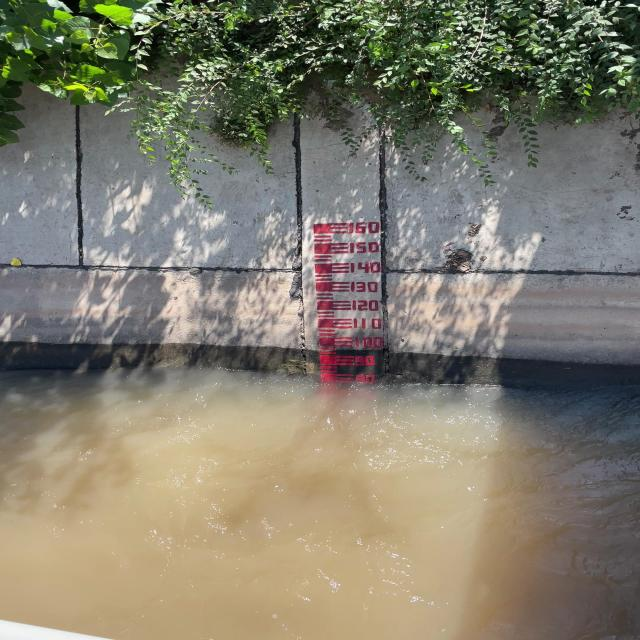ruler: (307, 217, 390, 381)
value: (346, 219, 386, 235), (346, 241, 384, 256), (349, 316, 386, 331), (347, 262, 384, 276), (352, 336, 384, 352), (347, 280, 383, 294), (349, 300, 384, 314), (354, 354, 378, 368)
